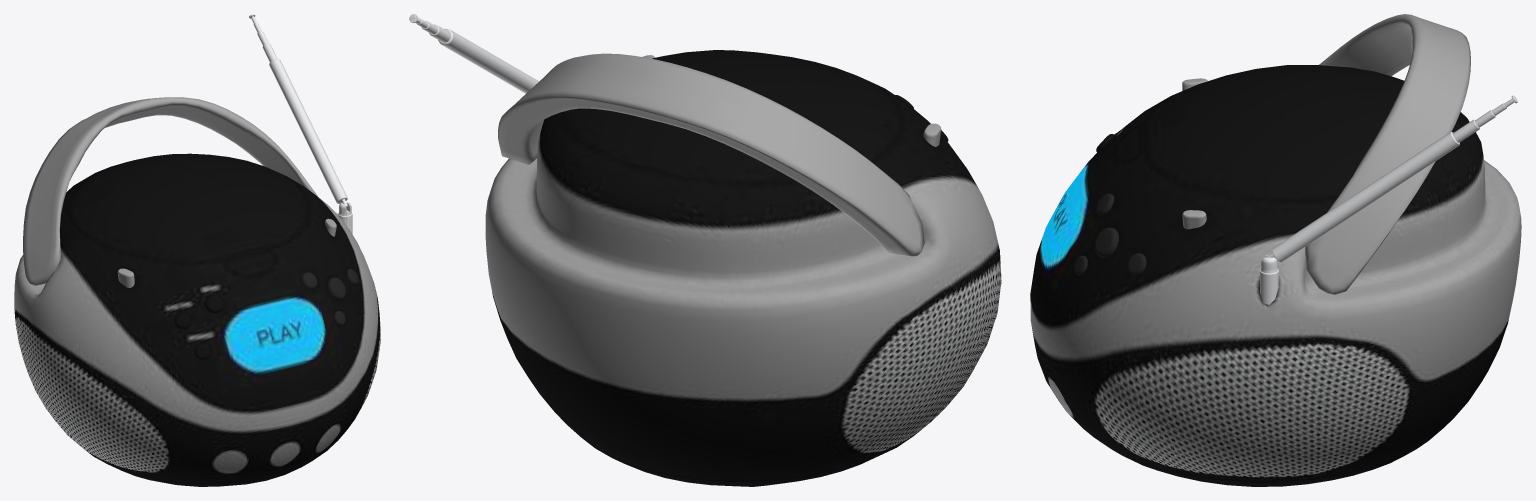
File: BoomBox.glb
3 views of the same model, side by side, from view 1: azimuth 30°, elevation 25°; view 2: azimuth 150°, elevation 25°; view 3: azimuth 270°, elevation 25° (orthographic). The views are drawn at different scales.
Parts seen in each view (by area): view 1: BoomBox; view 2: BoomBox; view 3: BoomBox.
Part boxes in pixels (box(x1,y1,x2,y2)): BoomBox: box(14, 14, 380, 486); BoomBox: box(409, 14, 1001, 486); BoomBox: box(1030, 14, 1521, 486).
Size of the model in its own units: 0.0198 by 0.0195 by 0.0202.
Materials: 1 (1 with a texture image).
